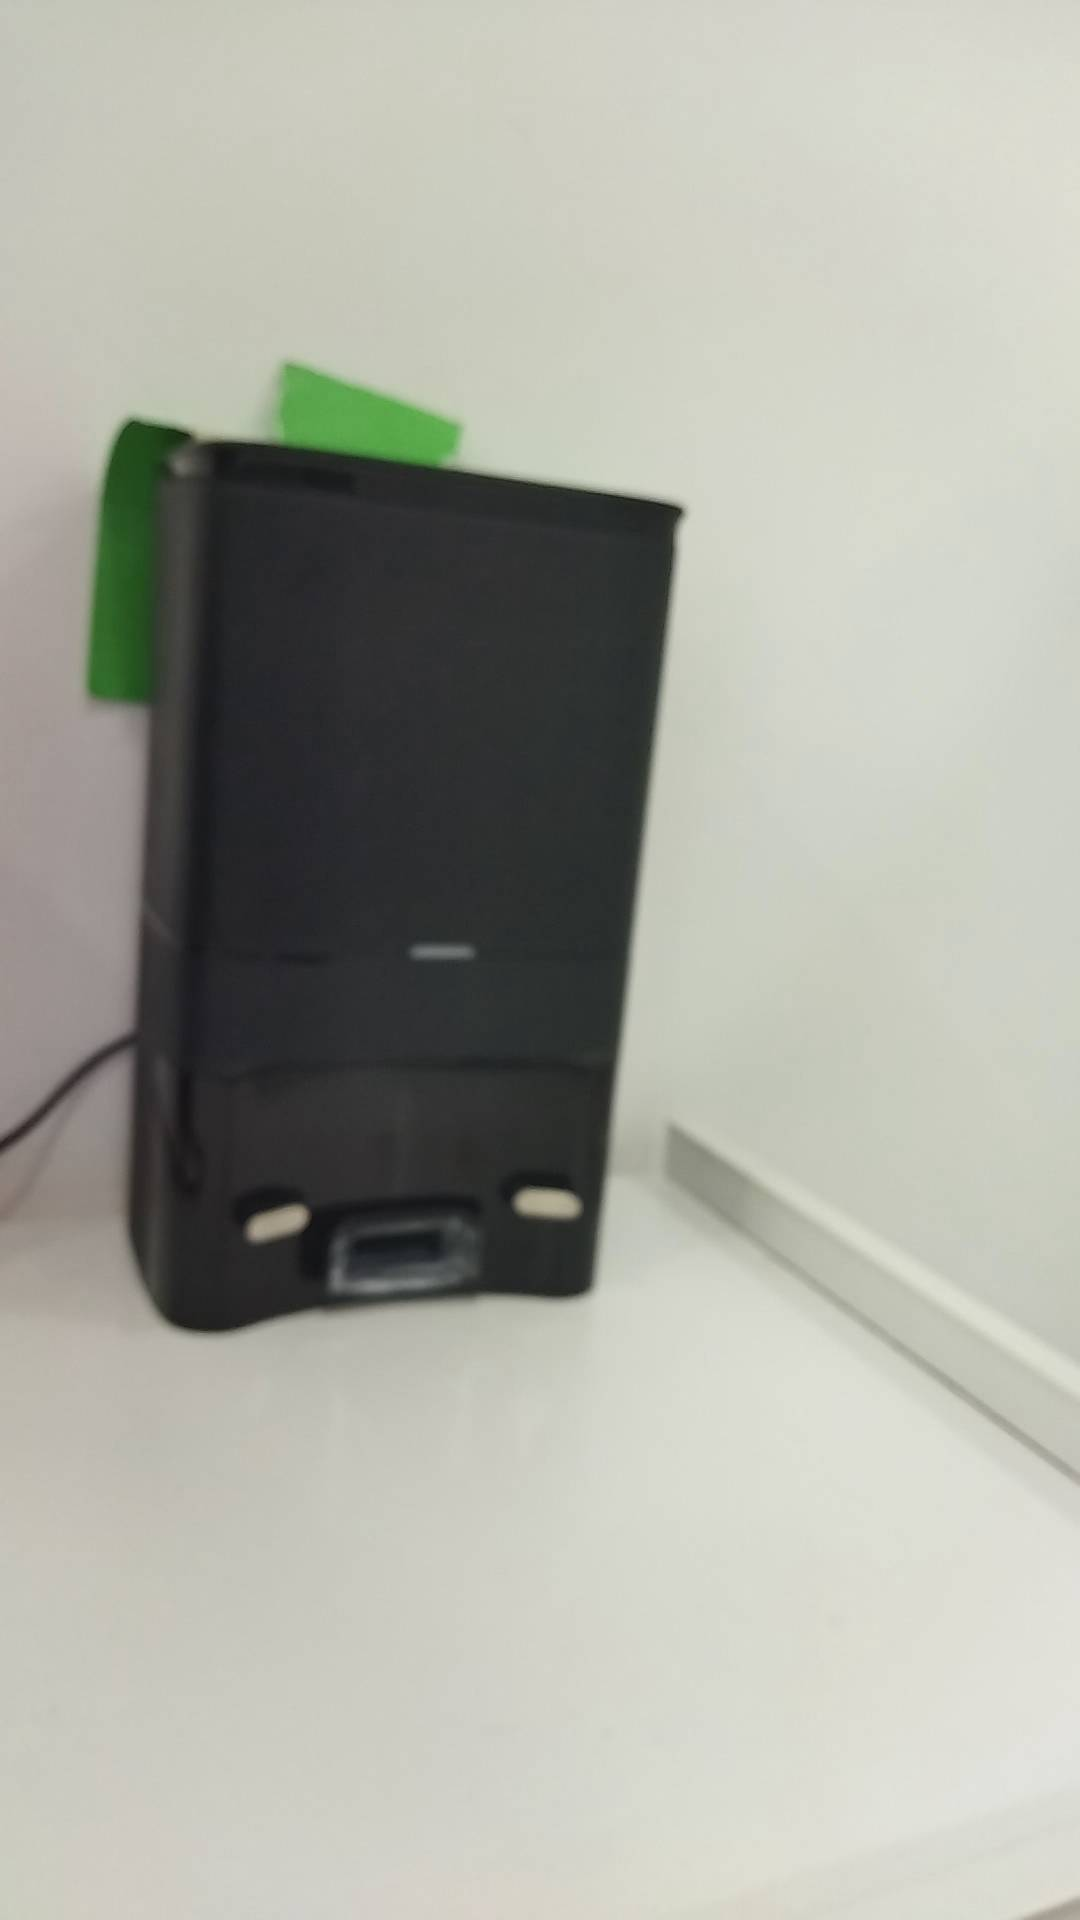dust collecting barrel: (124, 440, 688, 1337)
